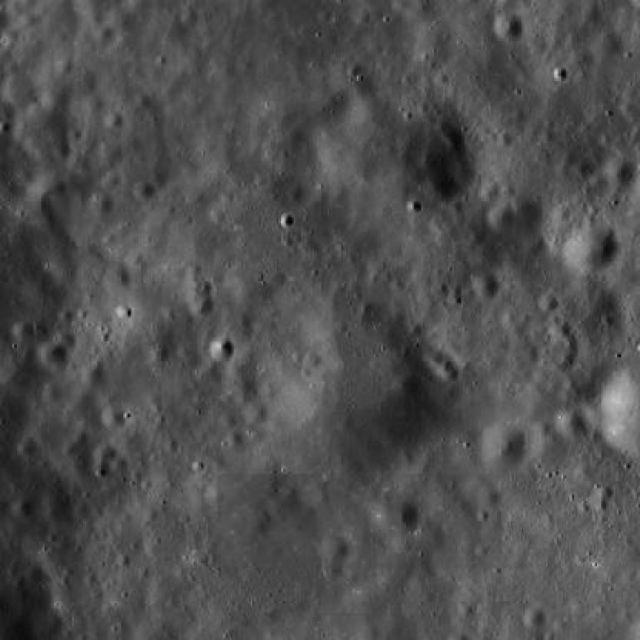crater: (250, 294, 442, 486), (327, 81, 473, 228), (252, 95, 330, 173), (18, 102, 71, 155), (567, 222, 618, 273), (404, 572, 453, 622), (481, 421, 530, 470), (372, 496, 416, 541), (308, 80, 350, 122), (0, 350, 40, 392), (404, 519, 442, 558), (532, 428, 570, 467), (248, 457, 284, 494), (235, 276, 272, 312), (563, 368, 597, 402), (44, 495, 76, 528), (5, 74, 38, 106), (606, 156, 637, 187), (510, 193, 541, 224), (66, 67, 97, 98), (107, 1, 138, 32), (319, 534, 350, 564), (396, 466, 426, 497), (558, 408, 588, 439), (496, 10, 526, 41), (403, 0, 439, 25), (227, 314, 256, 344), (487, 204, 516, 233), (105, 264, 134, 293), (40, 343, 68, 372), (348, 77, 376, 105), (42, 82, 70, 110), (25, 185, 53, 212), (230, 376, 258, 402), (473, 272, 499, 298), (594, 31, 620, 57), (432, 354, 458, 378), (102, 403, 126, 428), (210, 338, 235, 362), (50, 252, 75, 276), (569, 46, 594, 69), (190, 294, 215, 317), (82, 364, 105, 387), (90, 193, 112, 216), (324, 556, 346, 578), (13, 495, 35, 517), (524, 606, 546, 628), (14, 319, 36, 341), (95, 443, 116, 465), (246, 402, 266, 424), (306, 478, 326, 498), (44, 487, 64, 507), (538, 292, 558, 312), (480, 180, 500, 200), (574, 156, 594, 176), (582, 2, 602, 22), (396, 373, 416, 393), (136, 178, 156, 198), (101, 172, 121, 192), (54, 54, 74, 74), (303, 348, 322, 367), (48, 177, 67, 196), (96, 26, 115, 45), (20, 10, 40, 28), (552, 319, 570, 338), (148, 346, 167, 364), (226, 430, 245, 448), (56, 332, 75, 350), (43, 382, 62, 400), (20, 438, 38, 456), (108, 110, 126, 128), (268, 270, 286, 288), (458, 600, 476, 617), (532, 419, 550, 436), (7, 0, 27, 15), (482, 488, 500, 504), (222, 412, 238, 430), (110, 458, 127, 474), (136, 90, 152, 106), (56, 142, 72, 158), (86, 96, 102, 112), (126, 251, 143, 266), (598, 484, 614, 499), (497, 130, 512, 146), (434, 280, 449, 296), (280, 211, 296, 226), (288, 187, 304, 202), (3, 27, 19, 42), (392, 0, 412, 11)
